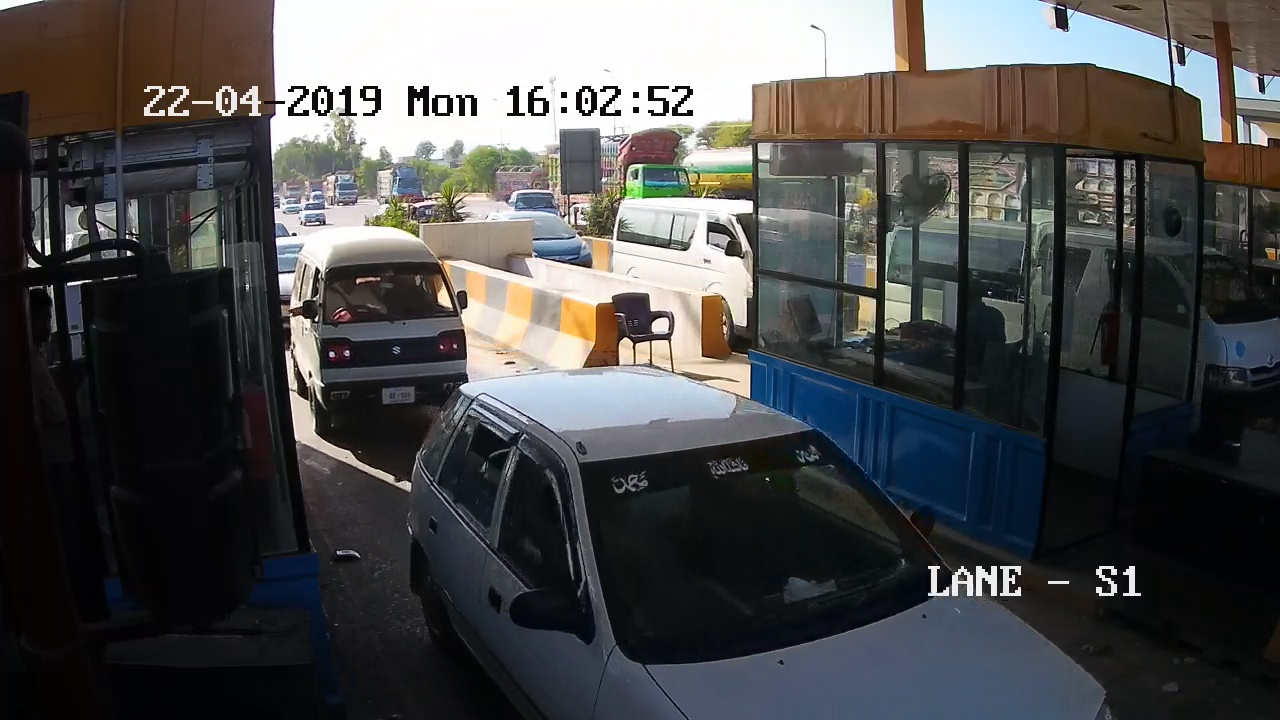car: (414, 424, 977, 720), (295, 244, 462, 404)
